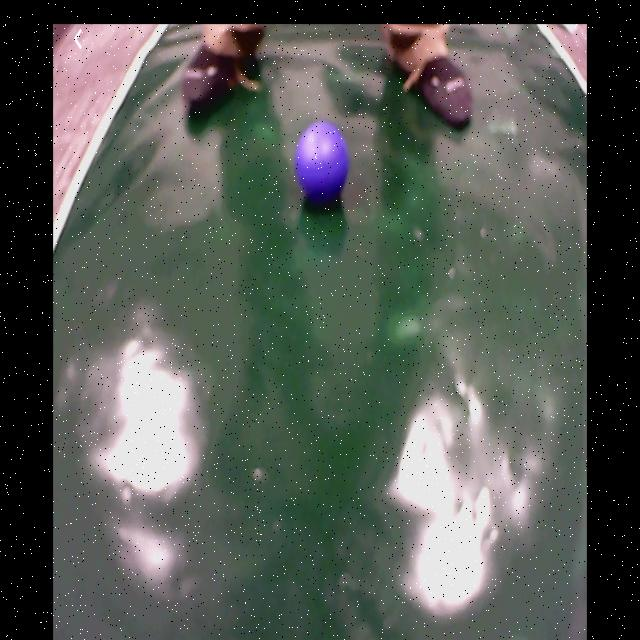ball: (297, 124, 348, 198)
